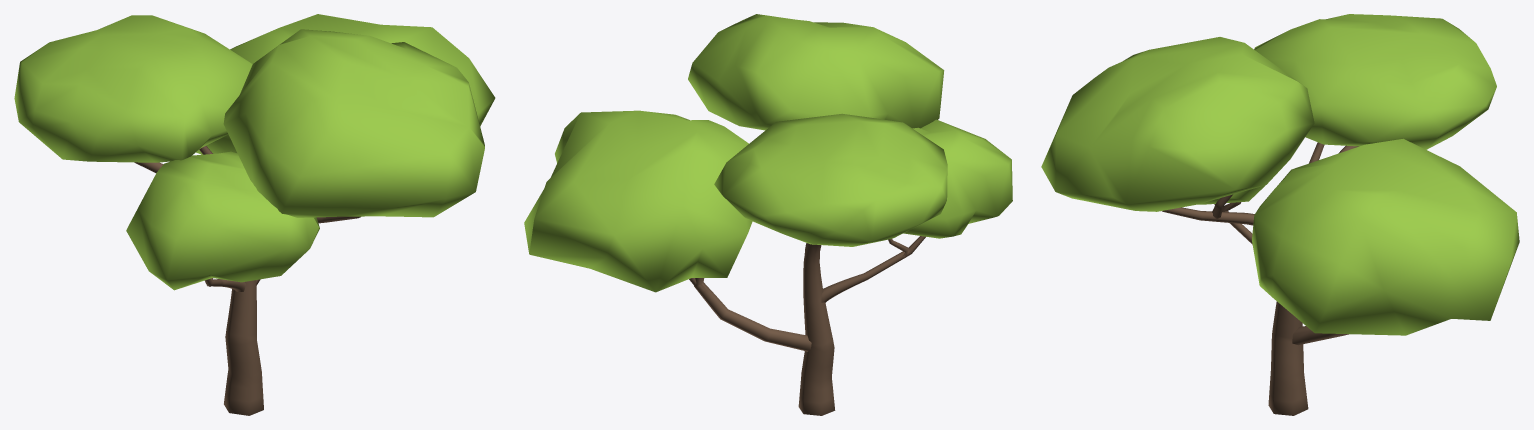
The model's file is tree_10.fbx.
The picture shows the model from 3 angles, left to right: view 1: azimuth 30°, elevation 25°; view 2: azimuth 150°, elevation 25°; view 3: azimuth 270°, elevation 25°; orthographic projection. The views are drawn at different scales.
Visible parts, largest first — view 1: Tube; view 2: Tube; view 3: Tube.
Boxes of the visible parts, bbox=[...] form: Tube: bbox=[14, 14, 495, 415]; Tube: bbox=[524, 14, 1012, 415]; Tube: bbox=[1041, 14, 1519, 415].
Bounding box in the file's own units: 48.37 × 39.05 × 45.23.
